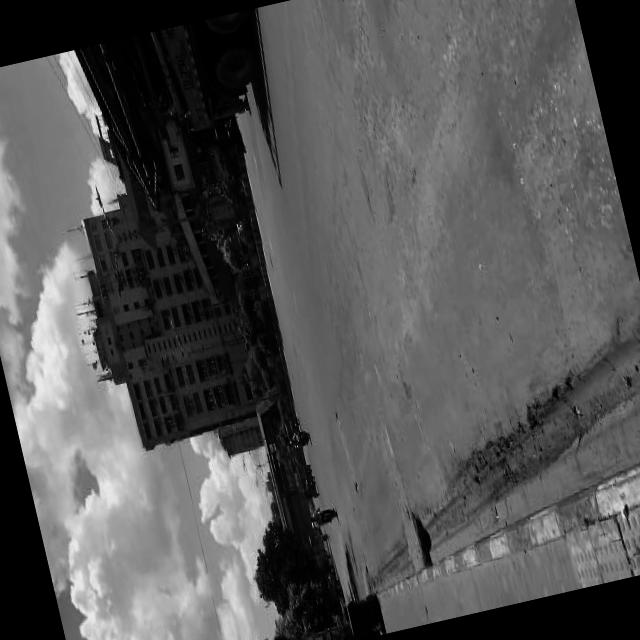motorcycle: (297, 472, 318, 498), (285, 425, 310, 446), (280, 413, 300, 436), (295, 463, 311, 476)
truck: (71, 9, 292, 220)
